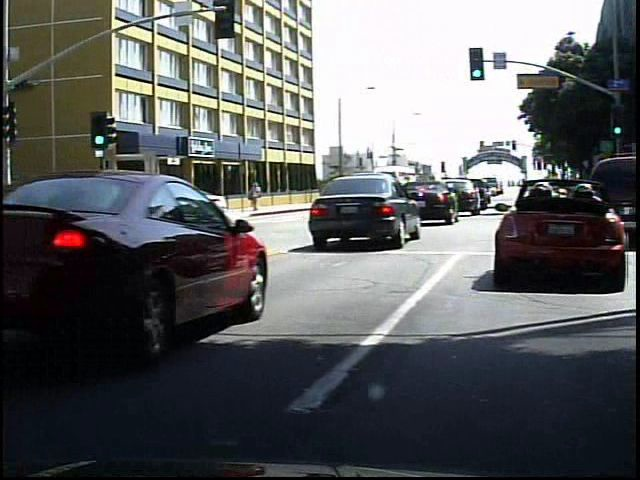person: (241, 178, 259, 216)
